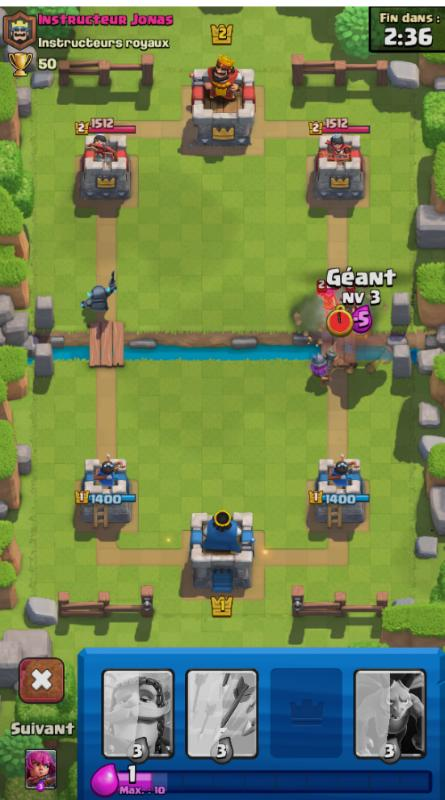archere: (315, 280, 346, 314), (336, 289, 365, 317)
mini_PEKKA: (76, 270, 120, 315)
mousquetaire: (308, 342, 338, 383)
